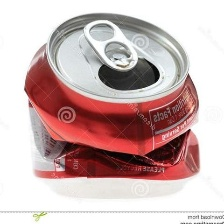can: (19, 8, 203, 199)
